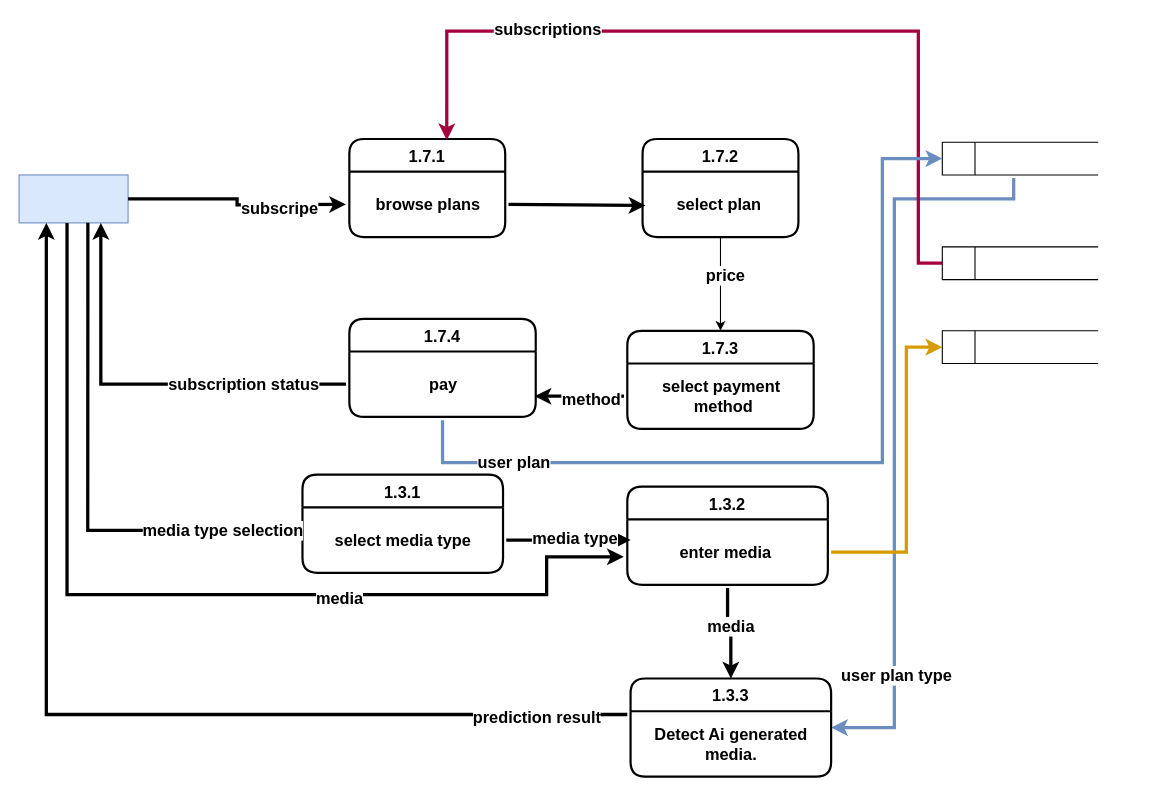
Some shapes in this 1172 by 797 pixel diagram are drawn without their labels. Here are the shapes that lost their labels. From the top down, the centre of each, then its label:
(1019,158): D1 user database
(73,198): User
(1019,263): D3 subscriptions
(1019,347): D2 media_data database
